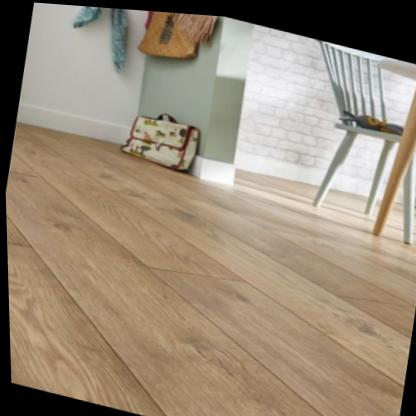Wooden floor: (5, 122, 416, 416)
